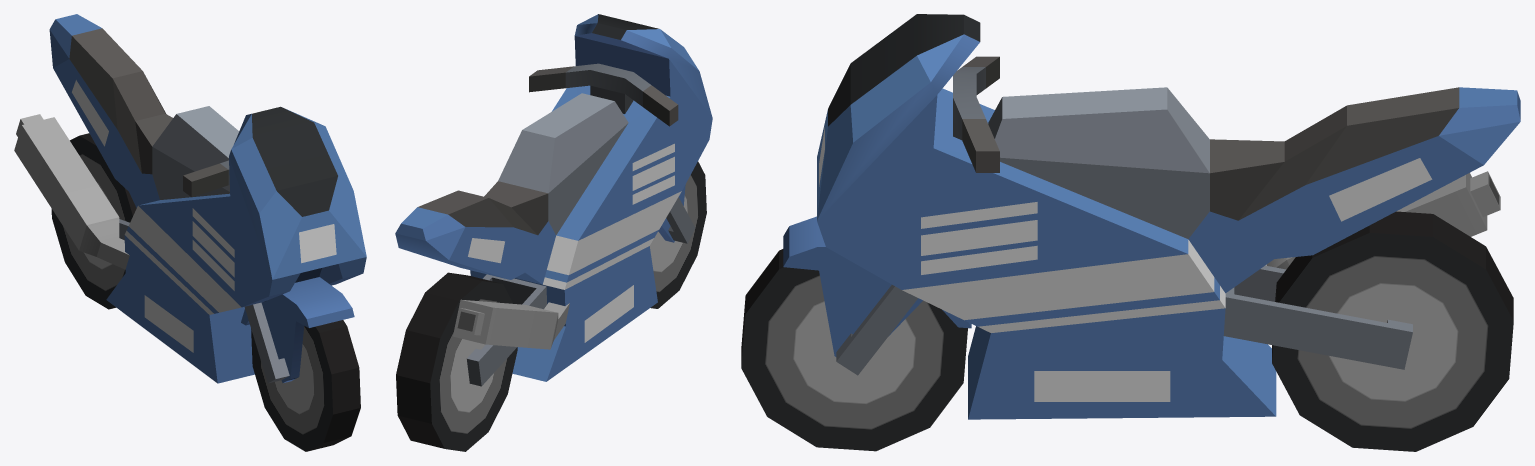
Rendered from blueBike.glb.
3 views of the same model, side by side, from view 1: azimuth 30°, elevation 25°; view 2: azimuth 150°, elevation 25°; view 3: azimuth 270°, elevation 25° (orthographic). The views are drawn at different scales.
Parts seen in each view (by area): view 1: SR_Veh_MotorBike_Blue, SR_Veh_MotorBike_Wheel_F, SR_Veh_MotorBike_Wheel_R; view 2: SR_Veh_MotorBike_Blue, SR_Veh_MotorBike_Wheel_R, SR_Veh_MotorBike_Wheel_F; view 3: SR_Veh_MotorBike_Blue, SR_Veh_MotorBike_Wheel_R, SR_Veh_MotorBike_Wheel_F.
Boxes of the visible parts, x1,y1,x2,y2 form: SR_Veh_MotorBike_Blue: (14,14,366,383); SR_Veh_MotorBike_Wheel_F: (251,320,360,451); SR_Veh_MotorBike_Wheel_R: (51,133,136,309); SR_Veh_MotorBike_Blue: (395,14,712,386); SR_Veh_MotorBike_Wheel_R: (396,272,517,451); SR_Veh_MotorBike_Wheel_F: (649,161,706,308); SR_Veh_MotorBike_Blue: (783,14,1520,419); SR_Veh_MotorBike_Wheel_R: (1272,211,1513,451); SR_Veh_MotorBike_Wheel_F: (741,249,967,451).
Size of the model in its own units: 0.0107 by 0.022 by 0.0372.
Materials: 1 (1 with a texture image).
